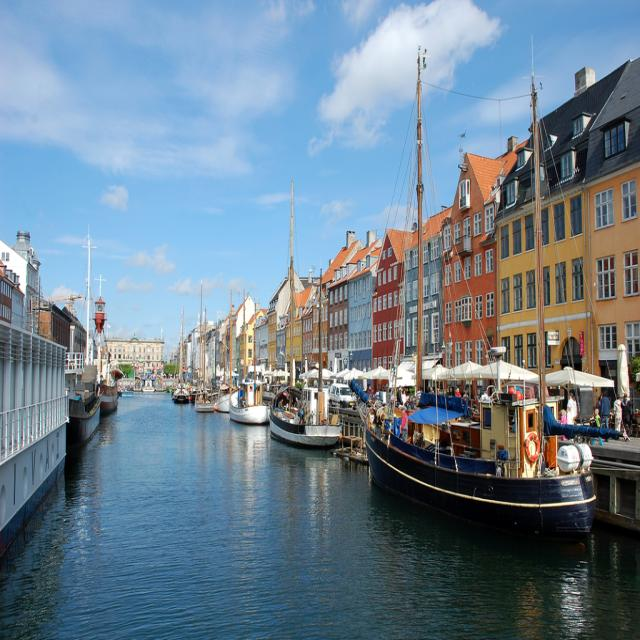Boat: (364, 331, 608, 534), (269, 178, 346, 448), (169, 280, 232, 412), (229, 290, 269, 423)
